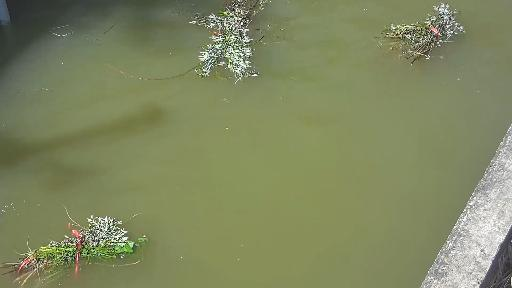twig: (18, 210, 142, 283), (175, 0, 274, 80), (369, 0, 471, 61)
